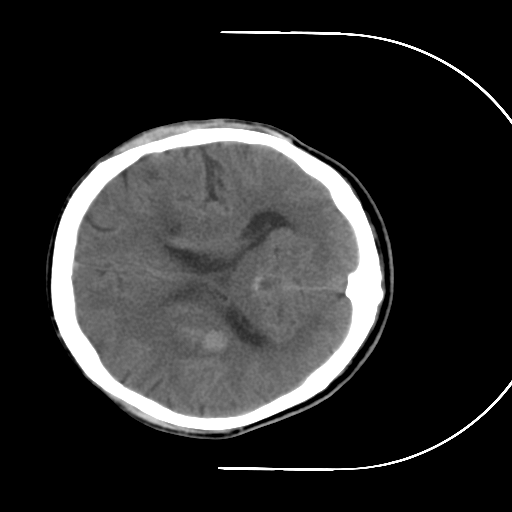a: (151, 304, 237, 372)
